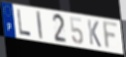2: (52, 13, 68, 45)
5: (69, 16, 84, 45)
F: (102, 20, 120, 51)
I: (35, 10, 44, 41)
K: (87, 19, 103, 49)
L: (16, 9, 32, 38)
